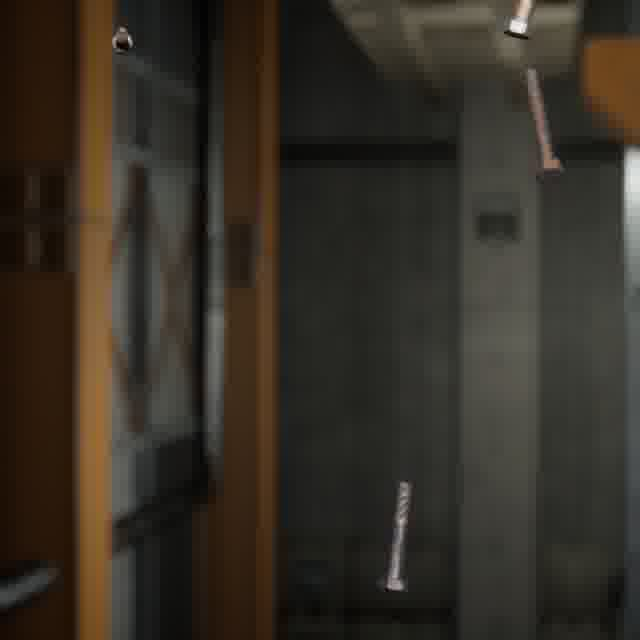bolt: (518, 64, 568, 187), (373, 477, 417, 596), (496, 0, 540, 44), (106, 23, 137, 59)
